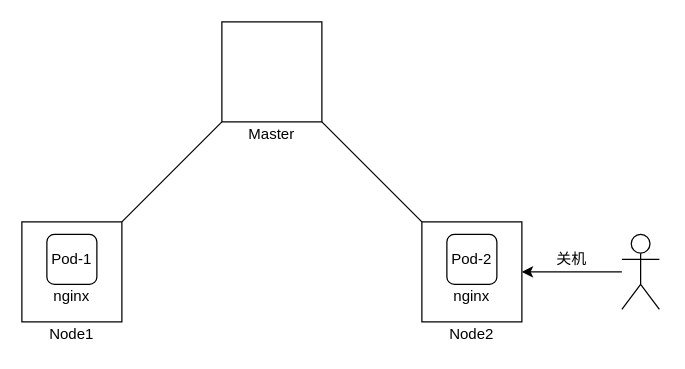
Image size: 685x369. Some labels were removed from this diagram. The shapes that lost their labels are listed below. From the top down, each one's centre as x and y in pixels, then its label:
At (x=271, y=71): "kube-apiserver".
At (x=640, y=271): "管理员".
